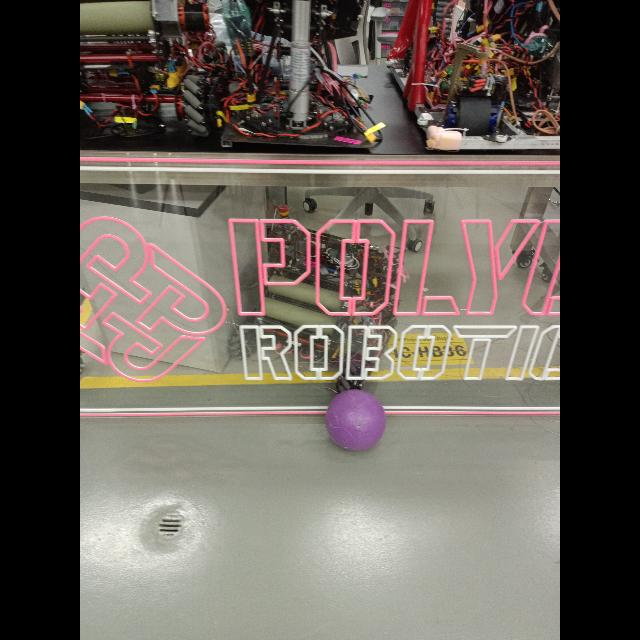P: (321, 386, 387, 454)
